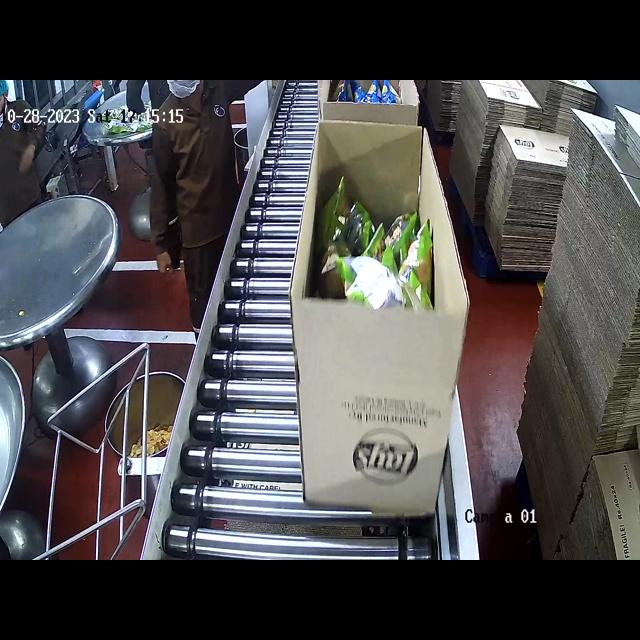yogurt: (336, 185, 426, 308)
